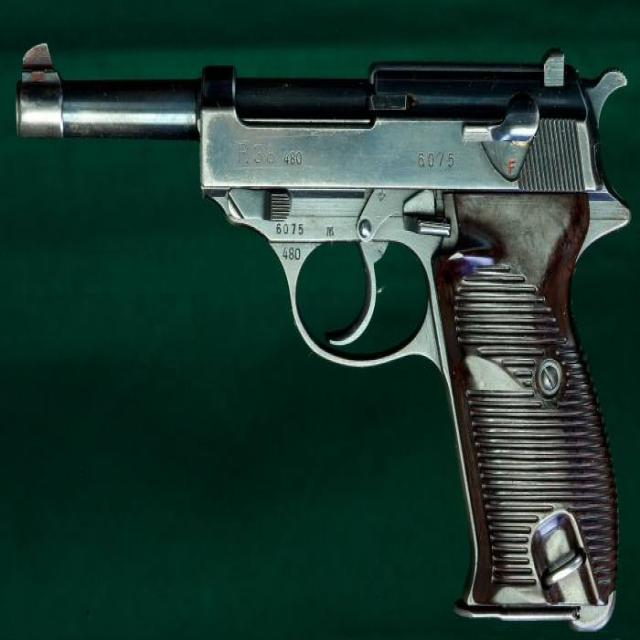pistol: (12, 34, 630, 633)
